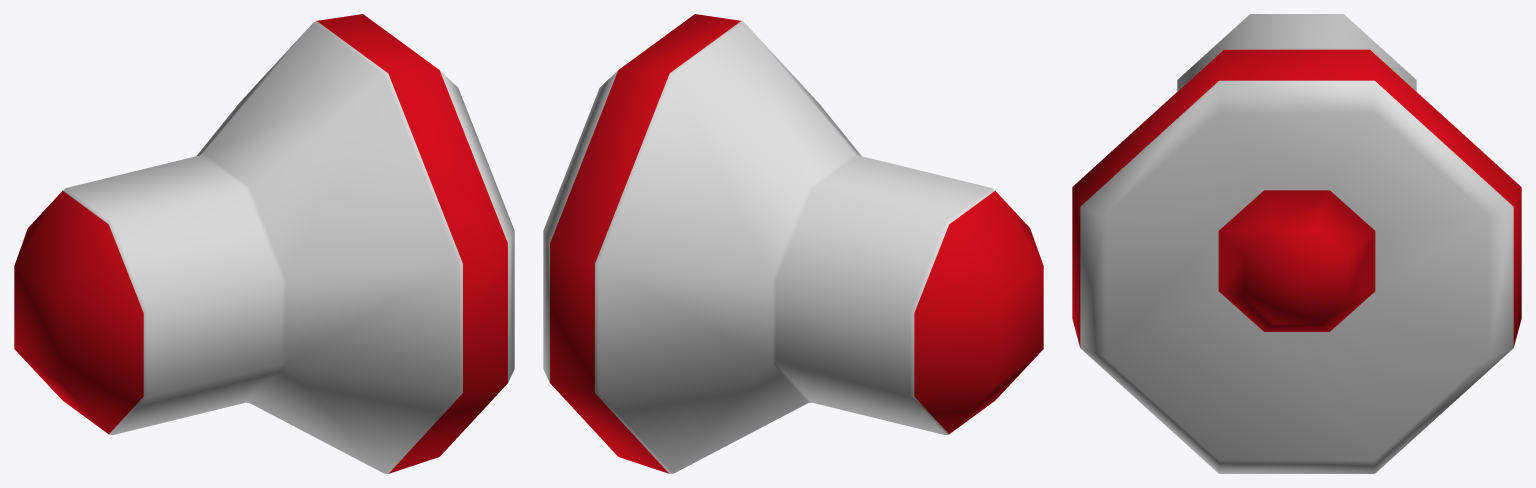
File: audio.dae
3 views of the same model, side by side, from view 1: azimuth 30°, elevation 25°; view 2: azimuth 150°, elevation 25°; view 3: azimuth 270°, elevation 25° (orthographic).
Visible parts, largest first — view 1: Audio_Symbol; view 2: Audio_Symbol; view 3: Audio_Symbol.
Part boxes in pixels (x1,y1,x2,y2): Audio_Symbol: (14, 14, 514, 473); Audio_Symbol: (543, 14, 1043, 473); Audio_Symbol: (1072, 14, 1521, 473).
Size of the model in its own units: 0.35 by 0.35 by 0.35.
